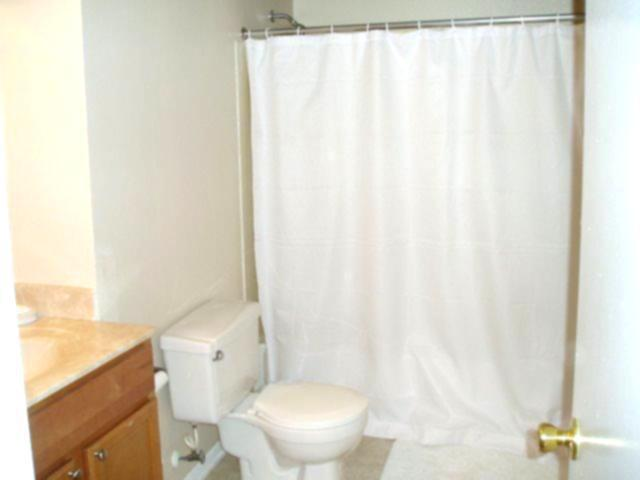Ducha: (237, 13, 564, 444)
Puerta: (577, 6, 638, 478)
Sanitario: (170, 305, 370, 477)
